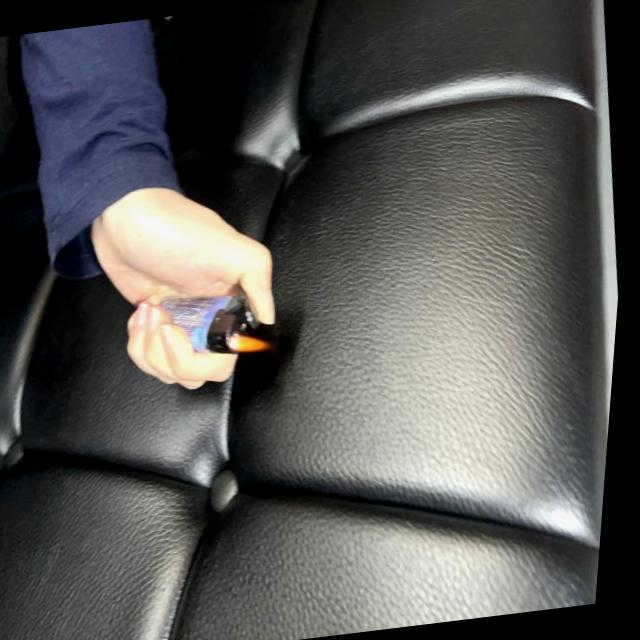helmet: (230, 330, 277, 356)
